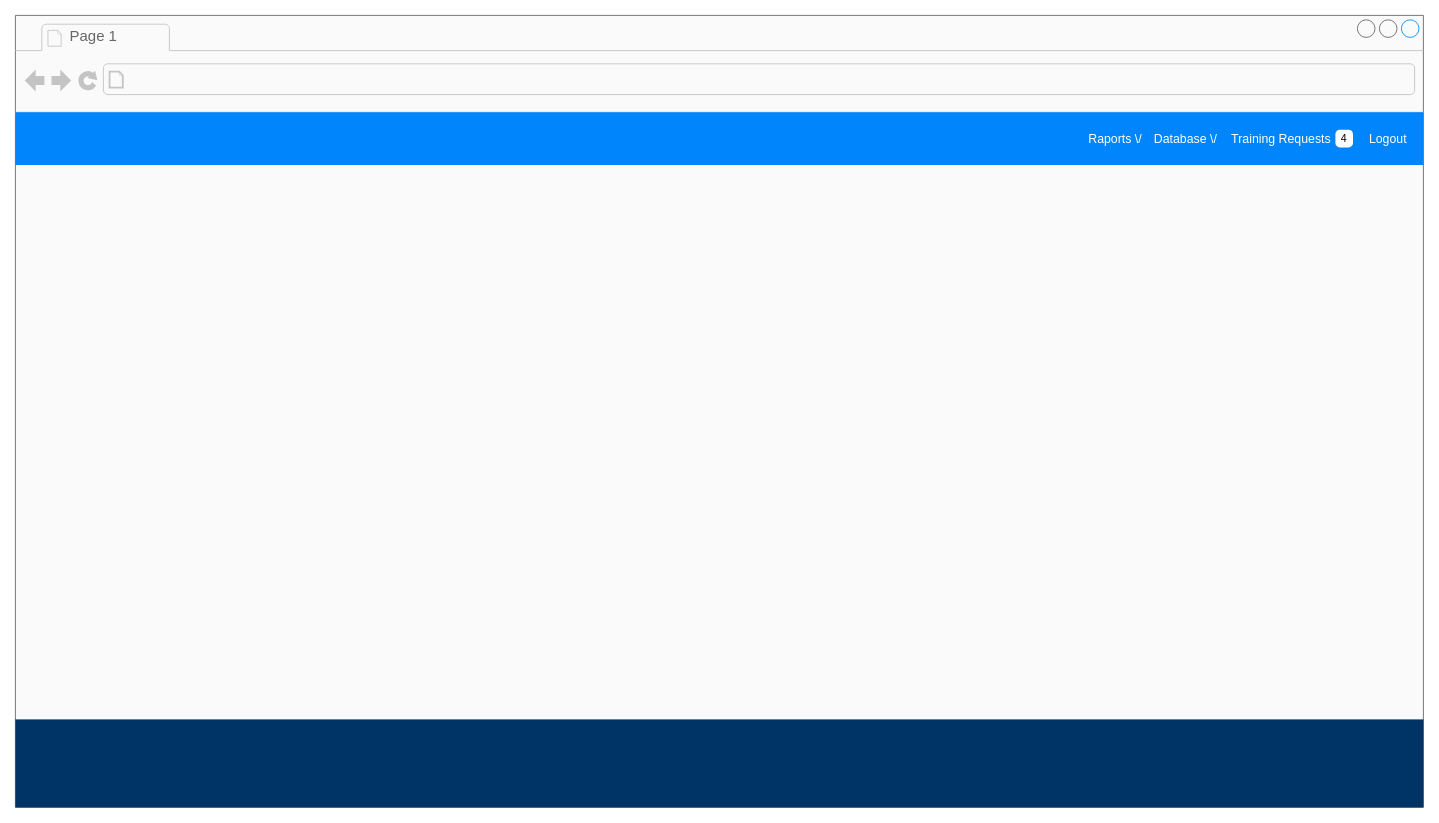
The diagram is 1439 pixels wide and 823 high, and some of its shapes have lost their labels. The box of each missing label's shape, as (x1, y1, x2, y2) in pixels:
https://www.draw.io: (129, 67, 350, 91)
LOGO: (15, 112, 1423, 165)
